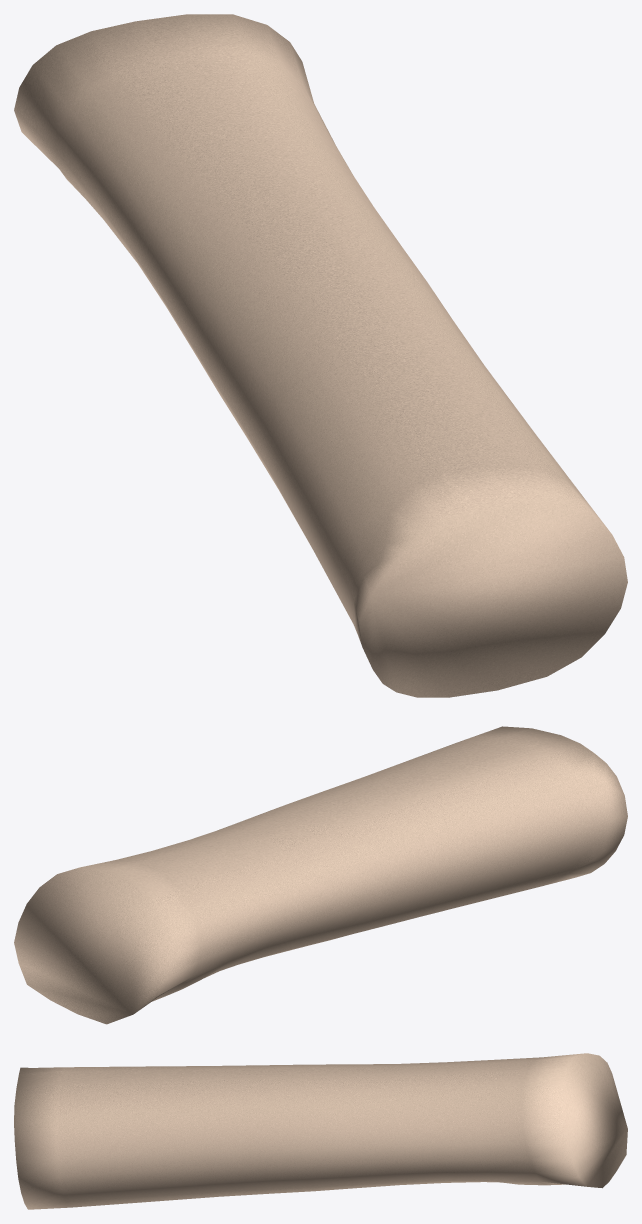
The model's file is l_forearm.obj.
The picture shows the model from 3 angles, top to bottom: view 1: azimuth 30°, elevation 25°; view 2: azimuth 150°, elevation 25°; view 3: azimuth 270°, elevation 25°; orthographic projection. The views are drawn at different scales.
Visible parts, largest first — view 1: l_forearm_Cube.005; view 2: l_forearm_Cube.005; view 3: l_forearm_Cube.005.
Boxes of the visible parts, <box> form: l_forearm_Cube.005: <box>14,14,627,697</box>; l_forearm_Cube.005: <box>14,726,627,1024</box>; l_forearm_Cube.005: <box>14,1053,627,1209</box>.
Bounding box in the file's own units: 0.0947 × 0.0643 × 0.2074.
1 material, 1 textured.
